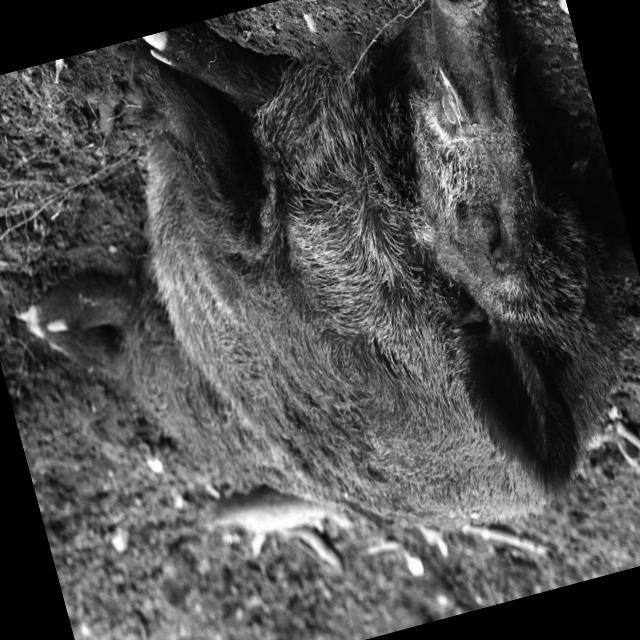pig: (24, 0, 640, 525)
